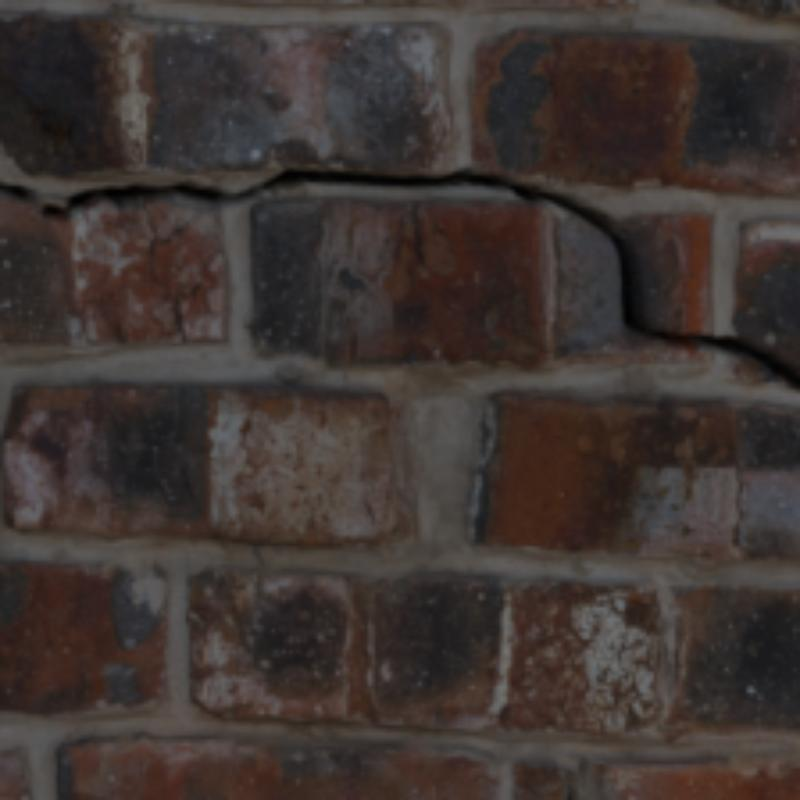crack: (0, 164, 796, 389)
